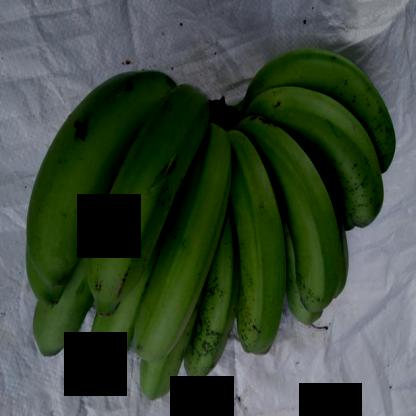freshunripe: (135, 124, 233, 365)
unripe: (21, 65, 161, 286), (82, 94, 213, 315), (242, 102, 336, 312), (263, 89, 385, 227), (223, 111, 288, 359)
